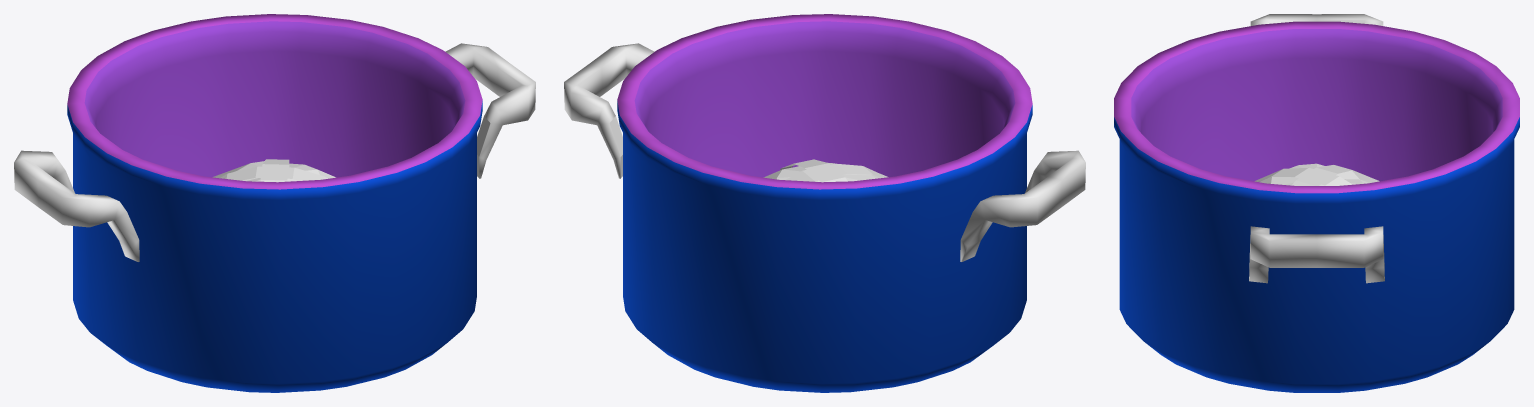
Rendered from ProofedDoughPotCooked.fbx.
3 renders of one model, left to right at view 1: azimuth 30°, elevation 25°; view 2: azimuth 150°, elevation 25°; view 3: azimuth 270°, elevation 25°, orthographic.
Parts seen in each view (by area): view 1: Cylinder.003, Cylinder.002, Score.002, Bread.002; view 2: Cylinder.003, Cylinder.002, Score.002, Bread.002; view 3: Cylinder.003, Cylinder.002, Score.002, Bread.002.
Boxes of the visible parts, x1=… form: Cylinder.003: x1=67, y1=14, x2=482, y2=392; Cylinder.002: x1=14, y1=43, x2=535, y2=261; Score.002: x1=220, y1=159, x2=327, y2=182; Bread.002: x1=212, y1=161, x2=335, y2=181; Cylinder.003: x1=617, y1=14, x2=1032, y2=392; Cylinder.002: x1=564, y1=43, x2=1085, y2=261; Score.002: x1=780, y1=159, x2=887, y2=182; Bread.002: x1=763, y1=162, x2=888, y2=181; Cylinder.003: x1=1114, y1=21, x2=1519, y2=392; Cylinder.002: x1=1249, y1=14, x2=1384, y2=283; Score.002: x1=1254, y1=165, x2=1365, y2=185; Bread.002: x1=1259, y1=163, x2=1379, y2=185.
Size of the model in its own units: 83.38 by 37.25 by 62.94.
